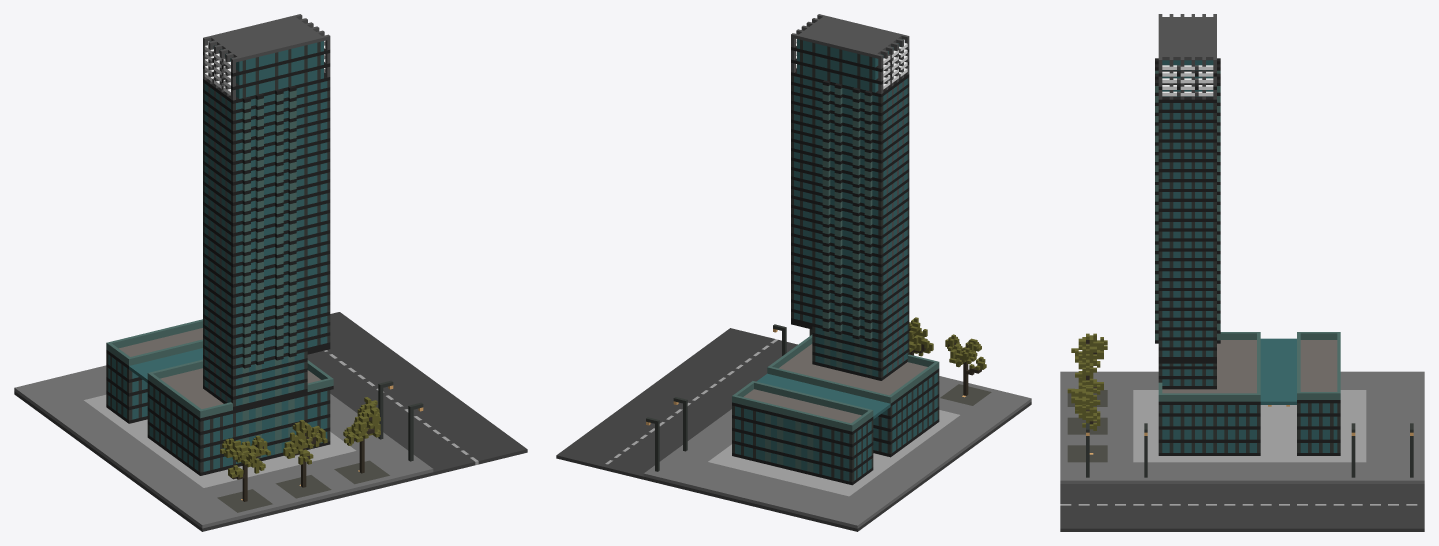
Rendered from building2.fbx.
3 renders of one model, left to right at view 1: azimuth 30°, elevation 25°; view 2: azimuth 150°, elevation 25°; view 3: azimuth 270°, elevation 25°, orthographic. The views are drawn at different scales.
Parts seen in each view (by area): view 1: ObjObject; view 2: ObjObject; view 3: ObjObject.
Part boxes in pixels (x1,y1,x2,y2): ObjObject: (14,14,527,531); ObjObject: (556,14,1031,531); ObjObject: (1060,14,1424,531).
Bounding box in the file's own units: 1000 × 1220 × 1000.
